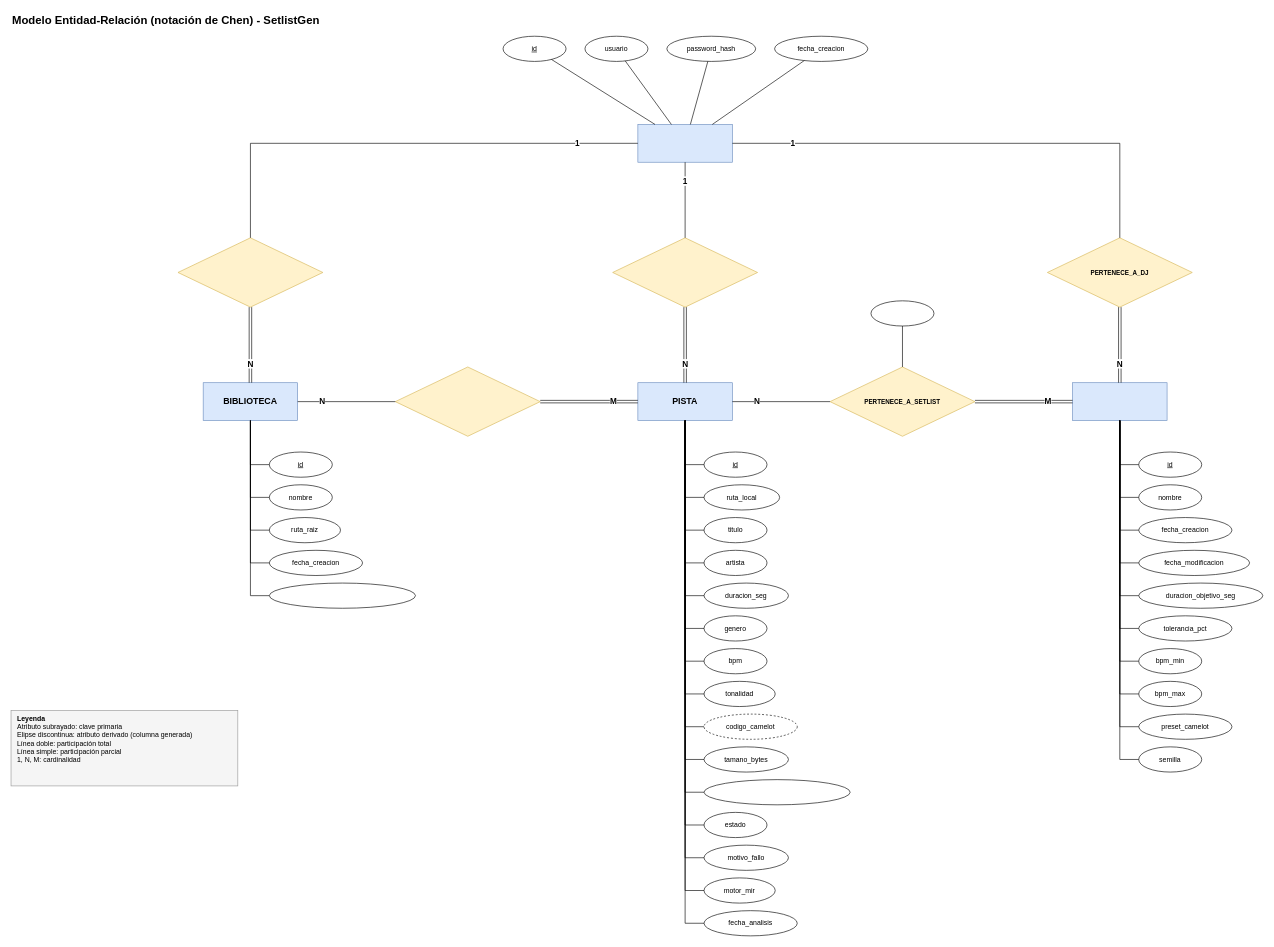
Some shapes in this 1274 by 947 pixel diagram are drawn without their labels. Here are the shapes that lost their labels. From the top down, the centre of each, then its label:
At point 684,143: "DJ".
At point 250,272: "TIENE_BIBLIOTECA".
At point 685,272: "POSEE".
At point 902,313: "orden".
At point 467,401: "CONTIENE".
At point 1119,401: "SETLIST".
At point 342,595: "fecha_ultima_actualizacion".
At point 776,792: "fecha_modificacion_archivo".
